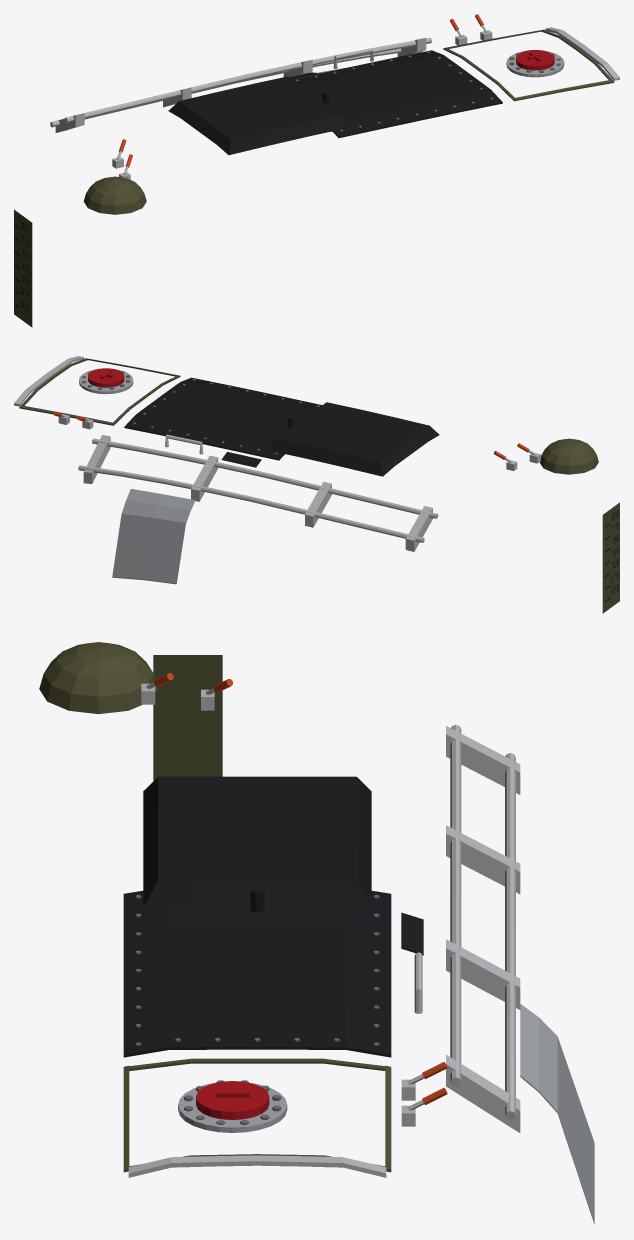
The model's file is tolva.glb.
The picture shows the model from 3 angles, top to bottom: view 1: azimuth 30°, elevation 25°; view 2: azimuth 150°, elevation 25°; view 3: azimuth 270°, elevation 25°; orthographic projection. The views are drawn at different scales.
Visible parts, largest first — view 1: tolva_lomo; view 2: tolva_lomo, tolva_escala; view 3: tolva_lomo.
Part boxes in pixels (left/top/right/bottom): tolva_lomo: left=14, top=14, right=619, bottom=327; tolva_lomo: left=14, top=356, right=619, bottom=613; tolva_escala: left=604, top=509, right=618, bottom=602; tolva_lomo: left=39, top=642, right=594, bottom=1224.
Size of the model in its own units: 2.55 by 0.6153 by 1.12.
